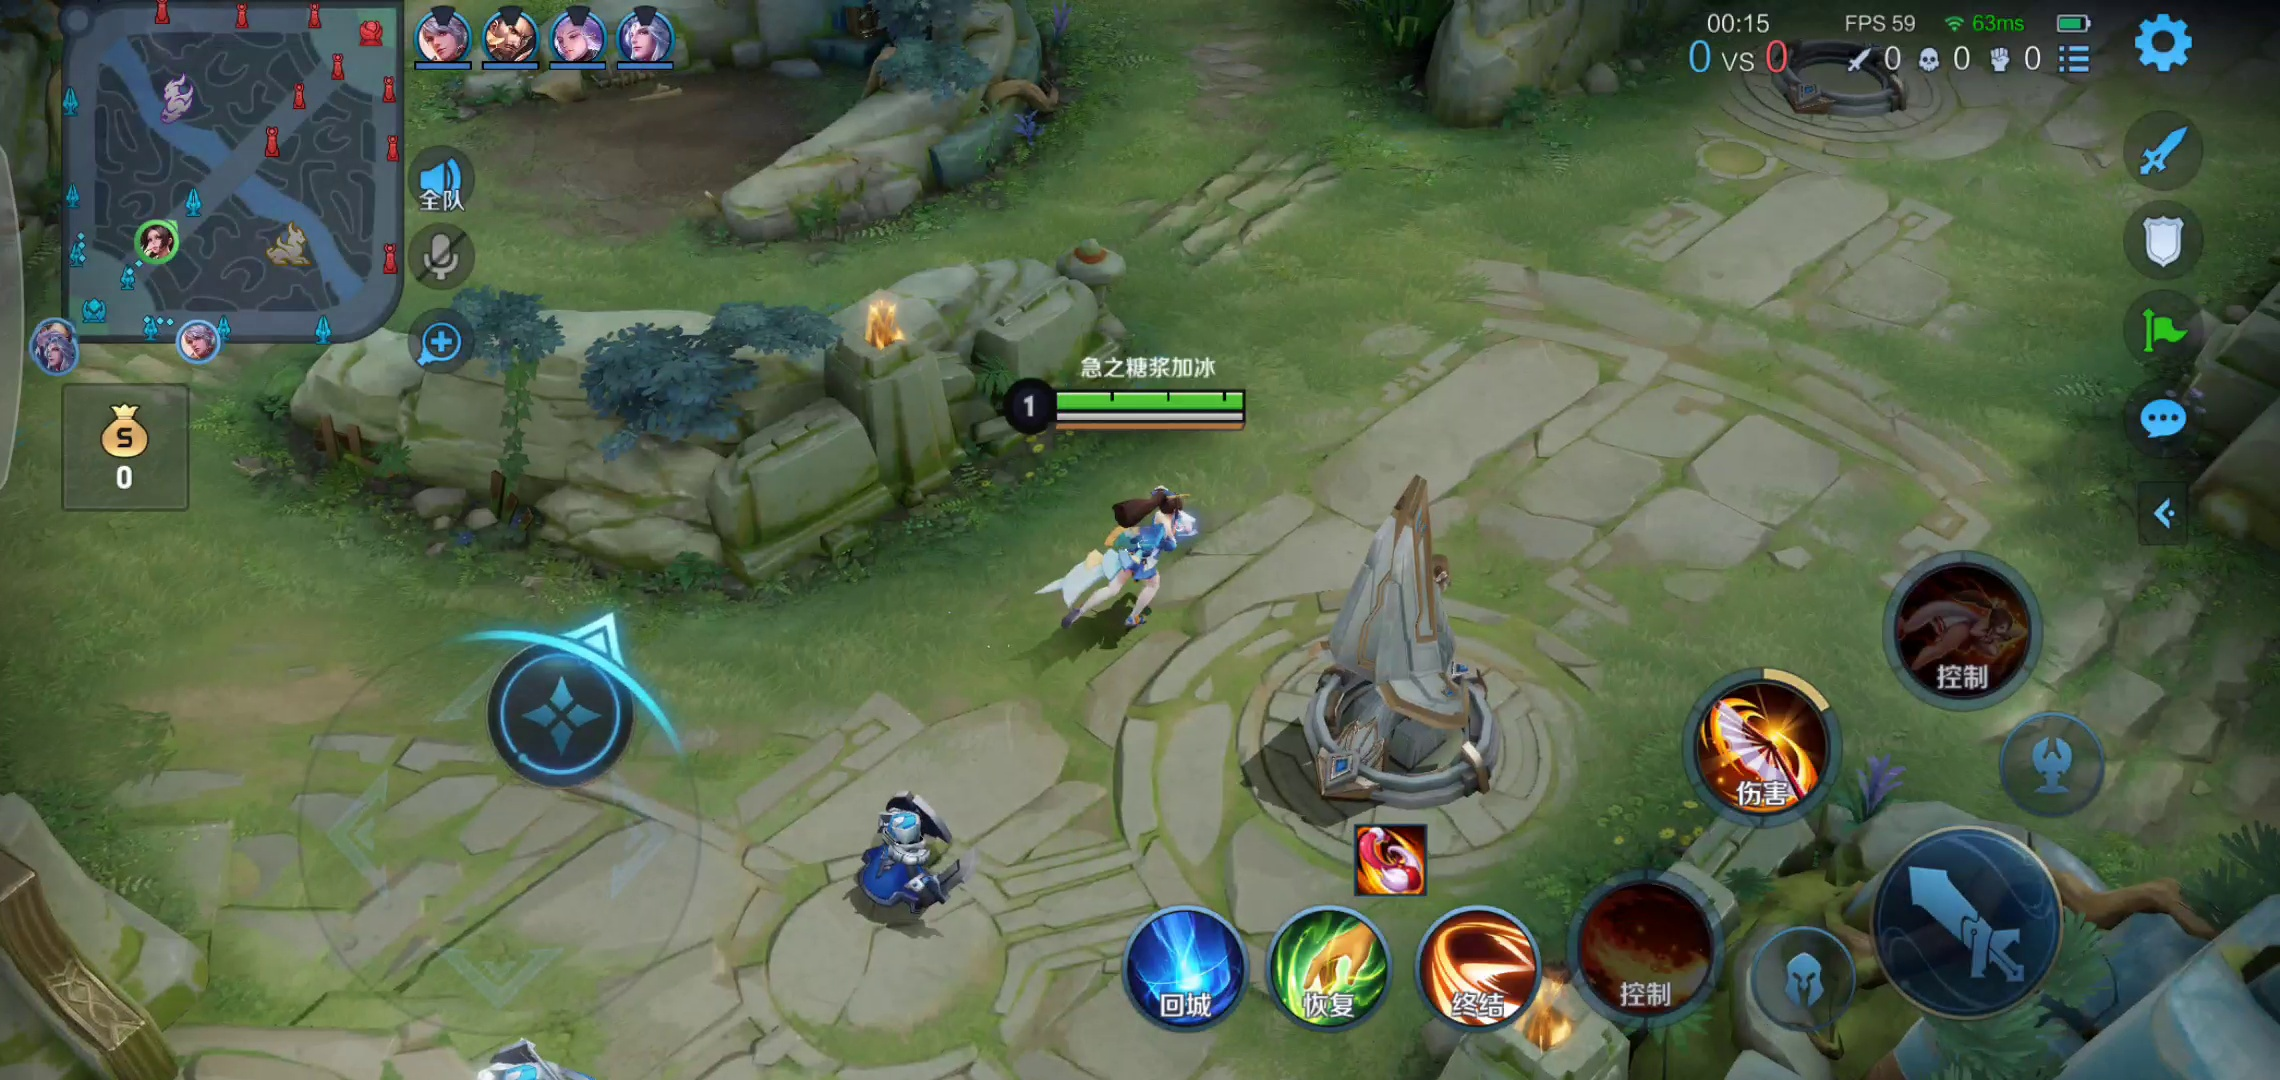hero: (1041, 480, 1211, 645)
soldier: (822, 776, 979, 916)
tower: (1268, 470, 1520, 818)
